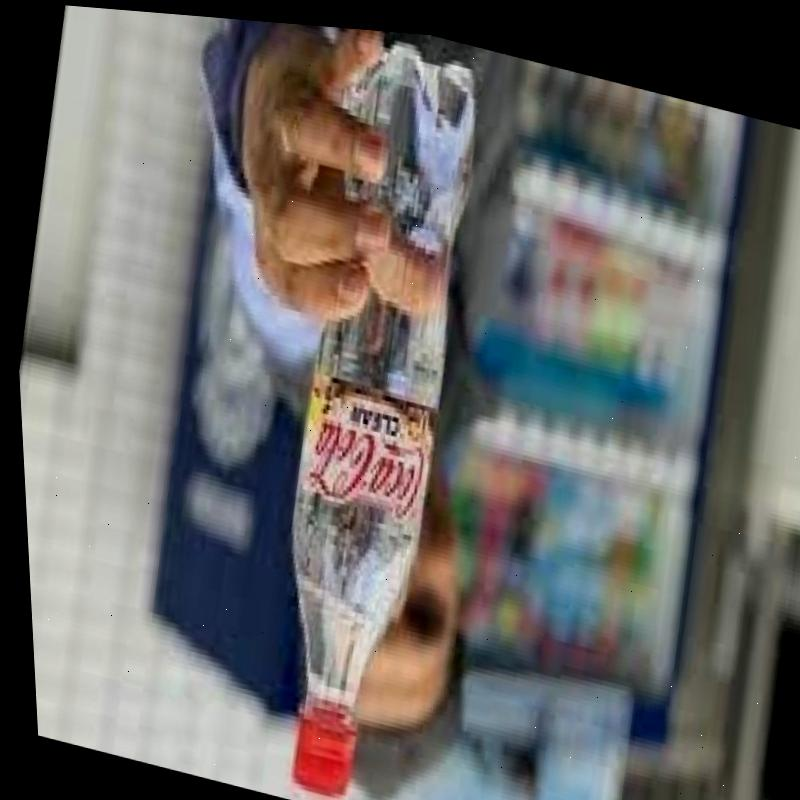botella: (215, 14, 514, 800)
